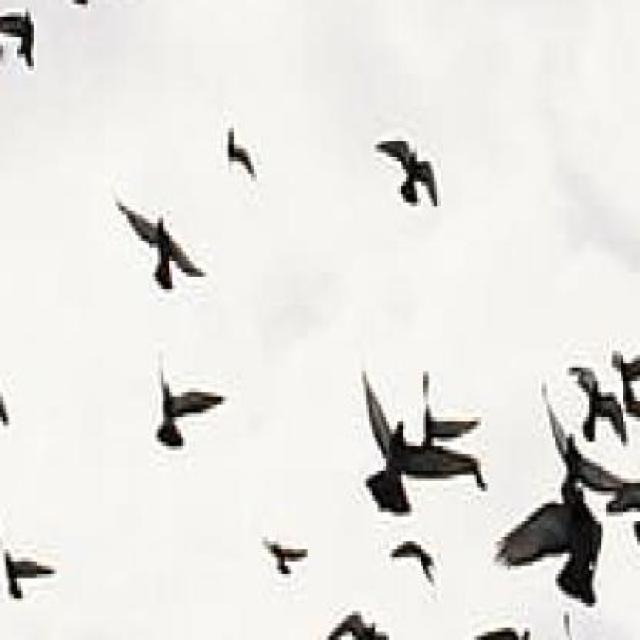bird: (494, 455, 607, 609), (103, 190, 225, 318), (356, 378, 444, 524), (376, 101, 450, 247), (147, 373, 244, 469), (564, 357, 632, 451), (252, 536, 336, 591), (0, 0, 46, 88), (0, 546, 68, 602), (216, 120, 274, 185), (36, 0, 161, 25), (386, 539, 447, 590), (325, 609, 397, 640), (470, 621, 543, 640), (628, 375, 638, 508), (1, 352, 5, 433)
